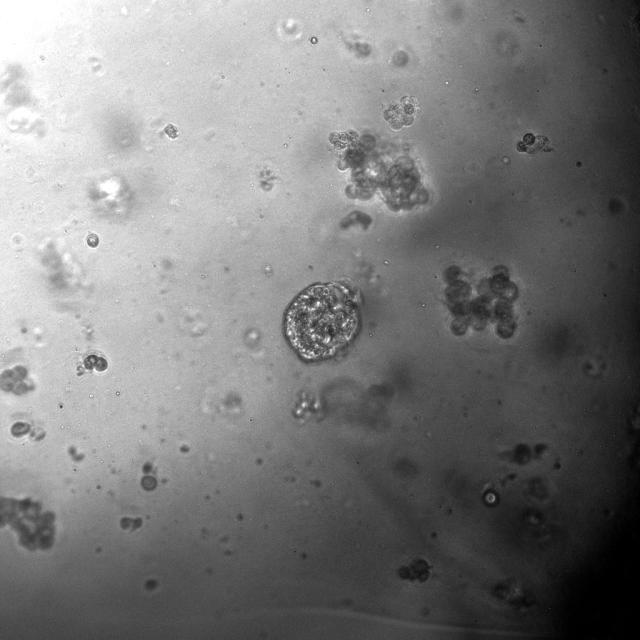organoid: (328, 129, 434, 215), (282, 279, 361, 362), (443, 264, 518, 339), (0, 496, 55, 550), (383, 96, 419, 130), (0, 364, 34, 395), (517, 132, 552, 155), (398, 558, 431, 582), (292, 391, 320, 417), (10, 420, 45, 440), (82, 353, 108, 372), (120, 516, 142, 531), (68, 445, 84, 462), (141, 475, 157, 490), (86, 232, 99, 249), (164, 123, 178, 138), (144, 577, 158, 591), (142, 462, 152, 473)
